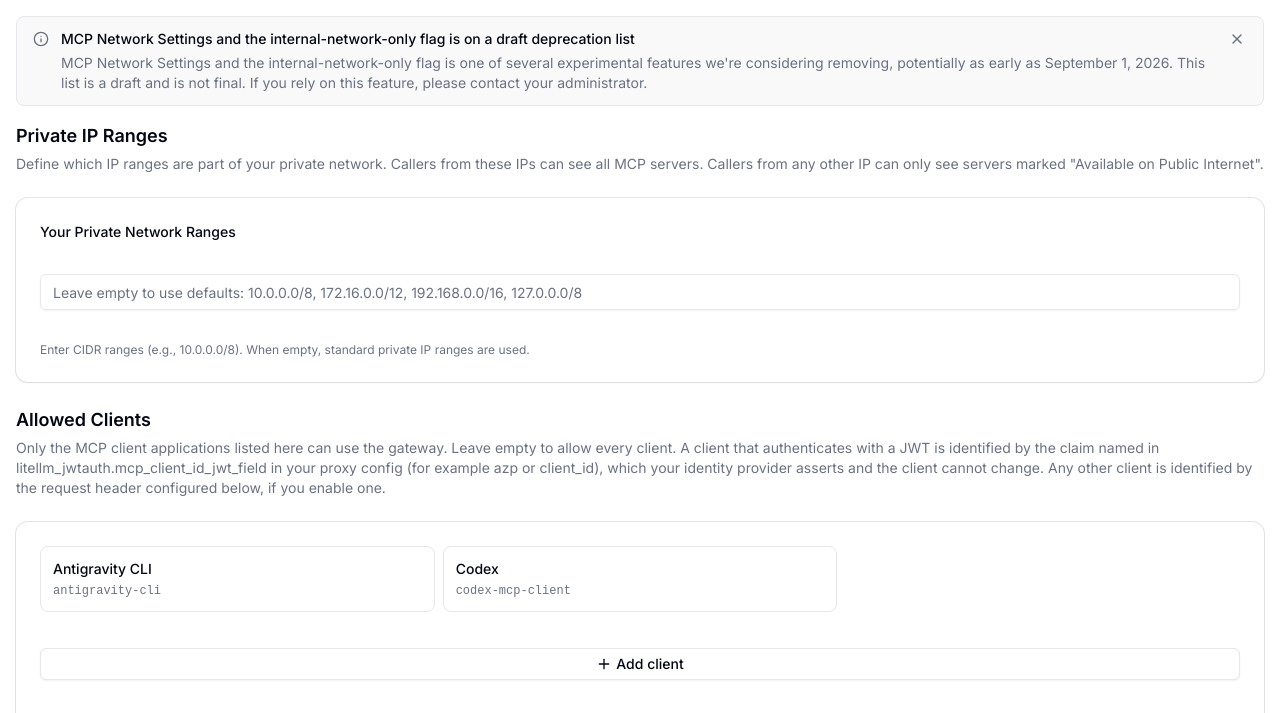
MCPNetworkSettings › opens an edit dialog when a client card is clicked, prefilled with that client's alias and value
Check: the text "Allowed Clients" is shown, box [16,409,151,430]
Click the button "Codex codex-mcp-client" at {"x": 477, "y": 568}, box [443,546,837,612]
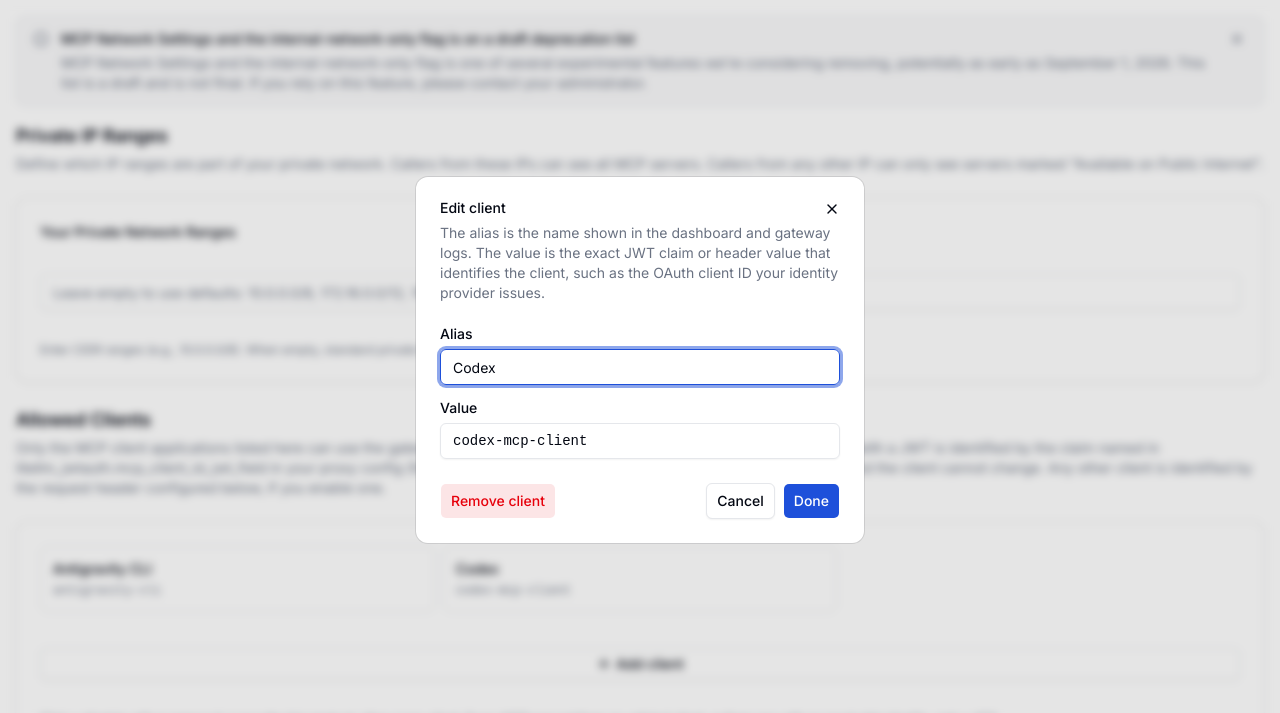
Check: the field labelled "Alias" holds "Codex", box [440,349,840,385]
Check: the field labelled "Value" holds "codex-mcp-client", box [440,423,840,459]
